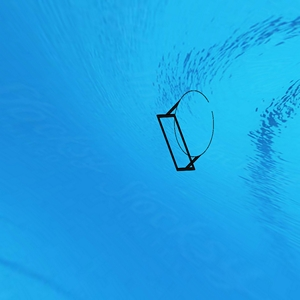circle: (156, 88, 216, 174)
